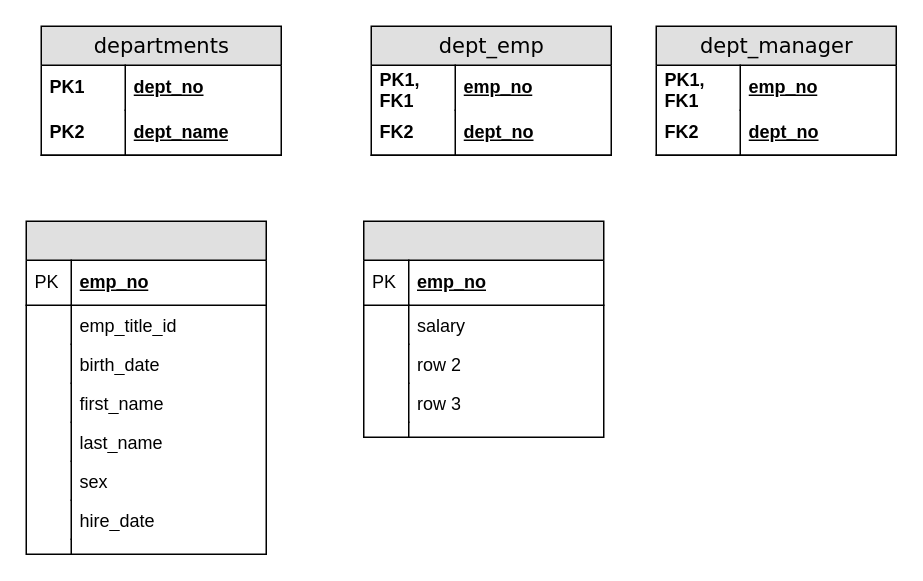
Some shapes in this 923 by 581 pixel diagram are drawn without their labels. The box of each missing label's shape, as (x1, y1, x2, y2) in pixels:
employees: (25, 220, 266, 554)
salaries: (362, 220, 604, 437)
